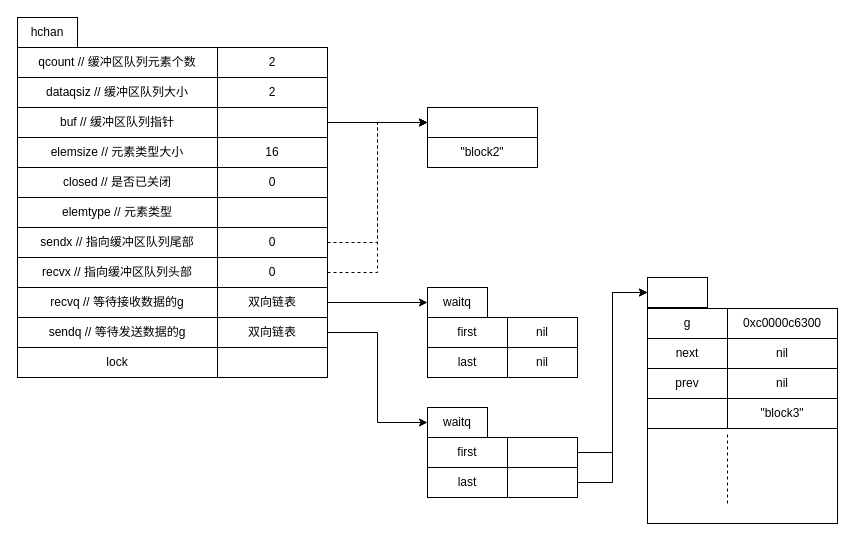
The diagram is 855 pixels wide and 541 high, and some of its shapes have lost their labels. The centre of each missing label's shape, as x and y in pixels:
"block1": point (482, 122)
elem: point (687, 413)
sudog: point (677, 292)
